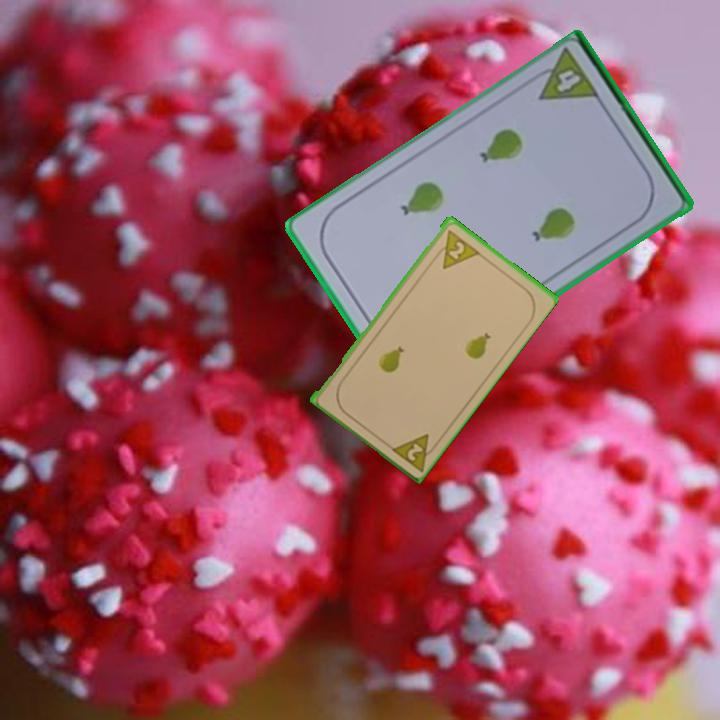2p: (386, 429, 442, 474), (430, 226, 481, 272)
4p: (525, 46, 603, 105)
